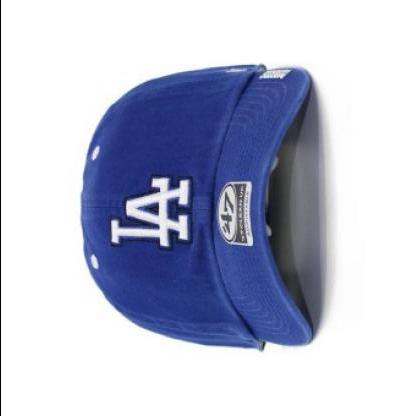cap: (70, 53, 330, 362)
